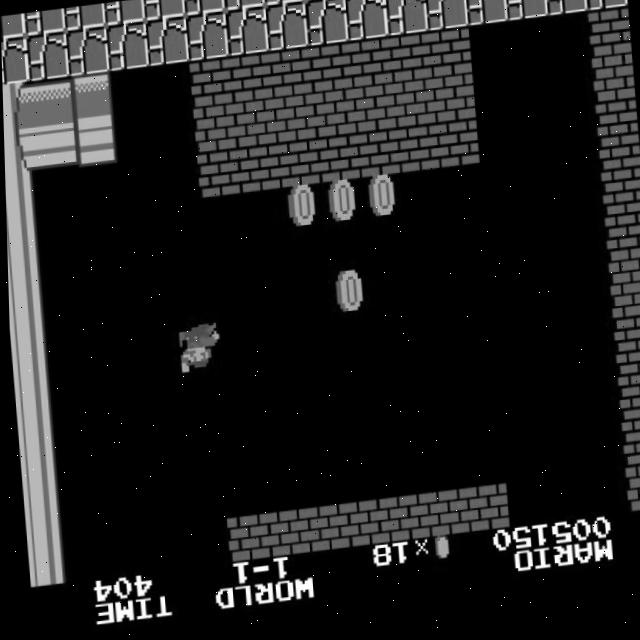1- brick_block: (463, 488, 507, 539), (428, 33, 472, 84), (388, 37, 432, 88), (352, 87, 396, 138), (343, 501, 387, 552), (312, 91, 356, 142), (272, 96, 316, 147), (263, 510, 307, 561), (228, 55, 272, 106), (431, 79, 475, 129), (423, 493, 467, 543), (395, 129, 439, 179), (392, 83, 436, 133), (383, 497, 427, 547), (348, 42, 392, 92), (308, 47, 352, 97), (303, 506, 347, 556), (275, 142, 319, 192), (268, 51, 312, 101), (235, 147, 279, 197), (232, 101, 276, 151), (223, 515, 267, 565), (195, 151, 239, 201), (192, 105, 236, 155), (188, 60, 232, 110), (435, 125, 479, 174), (355, 134, 399, 183), (315, 138, 359, 187), (588, 16, 631, 66), (598, 152, 640, 203), (595, 108, 638, 157), (591, 62, 634, 111), (601, 198, 640, 249), (605, 244, 640, 293), (609, 289, 640, 339), (612, 335, 640, 385), (616, 381, 640, 430), (619, 427, 640, 476), (622, 472, 640, 521)
11- little_mario: (175, 325, 223, 378)
14- pipe: (32, 123, 77, 173), (13, 401, 58, 451), (29, 77, 73, 128), (24, 537, 68, 588), (21, 492, 65, 542), (10, 355, 54, 405), (17, 447, 61, 496), (7, 310, 50, 359), (6, 264, 47, 314), (5, 219, 43, 269), (4, 174, 40, 223), (3, 128, 37, 177), (2, 82, 33, 132)
15- pipe_head: (72, 118, 116, 169), (69, 73, 113, 124)
17- undestructible_block: (304, 1, 349, 51), (265, 5, 309, 56), (225, 9, 269, 60), (145, 18, 189, 69), (65, 27, 109, 78), (185, 14, 229, 64), (105, 23, 149, 73), (25, 32, 69, 82), (344, 0, 389, 46), (384, 0, 429, 42), (424, 0, 468, 38), (464, 0, 508, 33), (1, 36, 30, 86), (504, 0, 548, 29), (23, 9, 66, 37), (103, 1, 146, 28), (63, 5, 106, 32), (544, 0, 588, 25), (143, 0, 186, 23), (584, 0, 627, 20), (183, 0, 226, 19), (0, 14, 27, 40), (223, 0, 266, 15), (263, 0, 306, 10), (303, 0, 346, 5), (343, 0, 385, 1)
2- coin: (358, 178, 402, 229), (278, 187, 322, 238), (325, 274, 369, 324), (318, 183, 362, 233)
